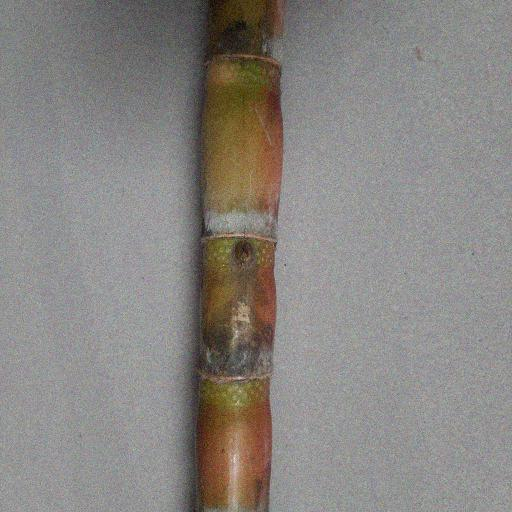Bud: (234, 240, 254, 267)
